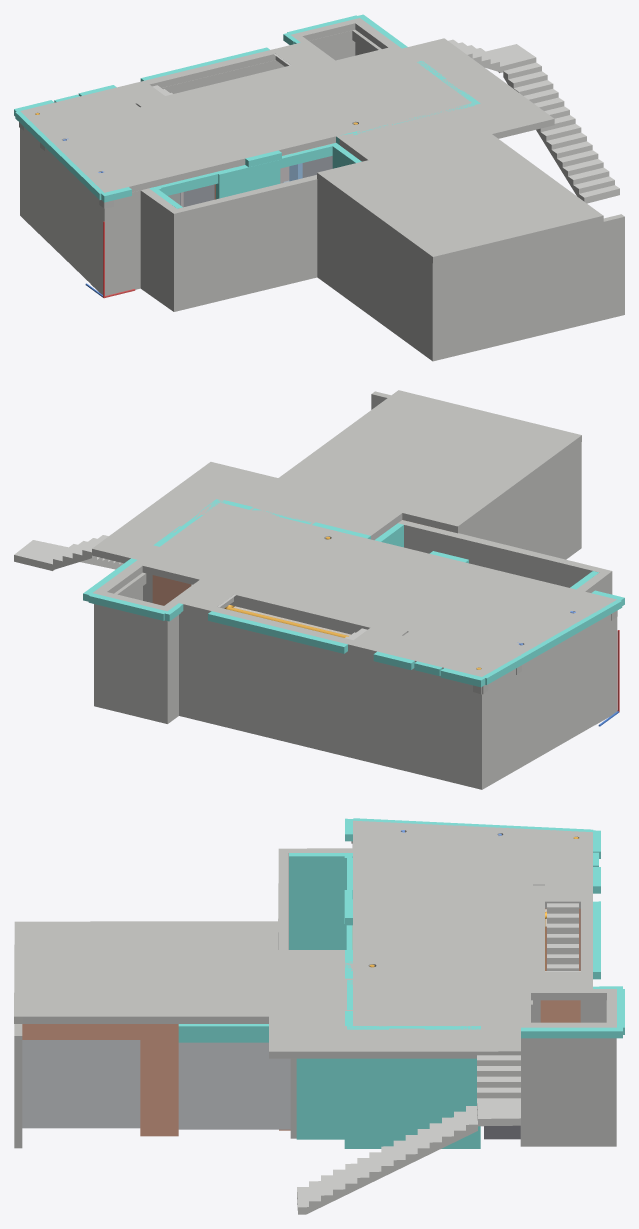
Rendered from HouseEM_AR_BS.glb.
3 renders of one model, top to bottom at view 1: azimuth 30°, elevation 25°; view 2: azimuth 150°, elevation 25°; view 3: azimuth 270°, elevation 25°, orthographic. The views are drawn at different scales.
Parts seen in each view (by area): view 1: GF-SB01, BS-RS01, BS-RCW01, BS-RCW04, BS-RCW02, BS-ST02, BS-RCW09, BS-RCW08, BS-COL03, BS-RCW10, BS-ET08, BS-RCW07 (+10 smaller); view 2: GF-SB01, BS-RS01, BS-RCW05, BS-COL07, BS-RCW02, BS-RCW08, BS-RCW04, BS-RCW06, BS-COL08, BS-RCW07, BS-COL03, BS-COL09 (+13 smaller); view 3: GF-SB01, BS-RS01, BS-COL07, BS-GD02, BS-ET01, BS-GD01, BS-ET06, BS-ST02, BS-BW01, BS-ET03, BS-ST01, BS-ST03 (+10 smaller).
Part boxes in pixels (x1,y1,x2,y2): GF-SB01: (20, 18, 554, 192); BS-RS01: (317, 131, 603, 263); BS-RCW01: (429, 214, 624, 361); BS-RCW04: (177, 175, 317, 309); BS-RCW02: (317, 179, 429, 358); BS-ST02: (503, 62, 619, 203); BS-RCW09: (140, 188, 181, 311); BS-RCW08: (45, 152, 90, 283); BS-COL03: (90, 196, 117, 295); BS-RCW10: (117, 200, 140, 292); BS-ET08: (216, 160, 280, 199); BS-RCW07: (25, 132, 41, 235); GF-SB01: (92, 462, 617, 676); BS-RS01: (275, 390, 581, 533); BS-RCW05: (182, 621, 380, 764); BS-COL07: (94, 573, 182, 723); BS-RCW02: (458, 445, 578, 559); BS-RCW08: (522, 630, 594, 766); BS-RCW04: (398, 520, 603, 587); BS-RCW06: (400, 674, 449, 781); BS-COL08: (449, 686, 489, 789); BS-RCW07: (490, 675, 515, 784); BS-COL03: (595, 617, 617, 724); BS-COL09: (380, 669, 400, 769); GF-SB01: (269, 820, 616, 1058); BS-RS01: (14, 921, 278, 1023); BS-COL07: (520, 1000, 616, 1146); BS-GD02: (22, 1040, 140, 1128); BS-ET01: (344, 1058, 480, 1148); BS-GD01: (178, 1042, 290, 1129); BS-ET06: (289, 853, 352, 949); BS-ST02: (297, 1106, 477, 1214); BS-BW01: (140, 1024, 178, 1136); BS-ET03: (296, 1058, 344, 1139); BS-ST01: (547, 903, 578, 970); BS-ST03: (477, 1055, 520, 1098).
Size of the model in its own units: 16.39 by 3.3 by 15.27.
